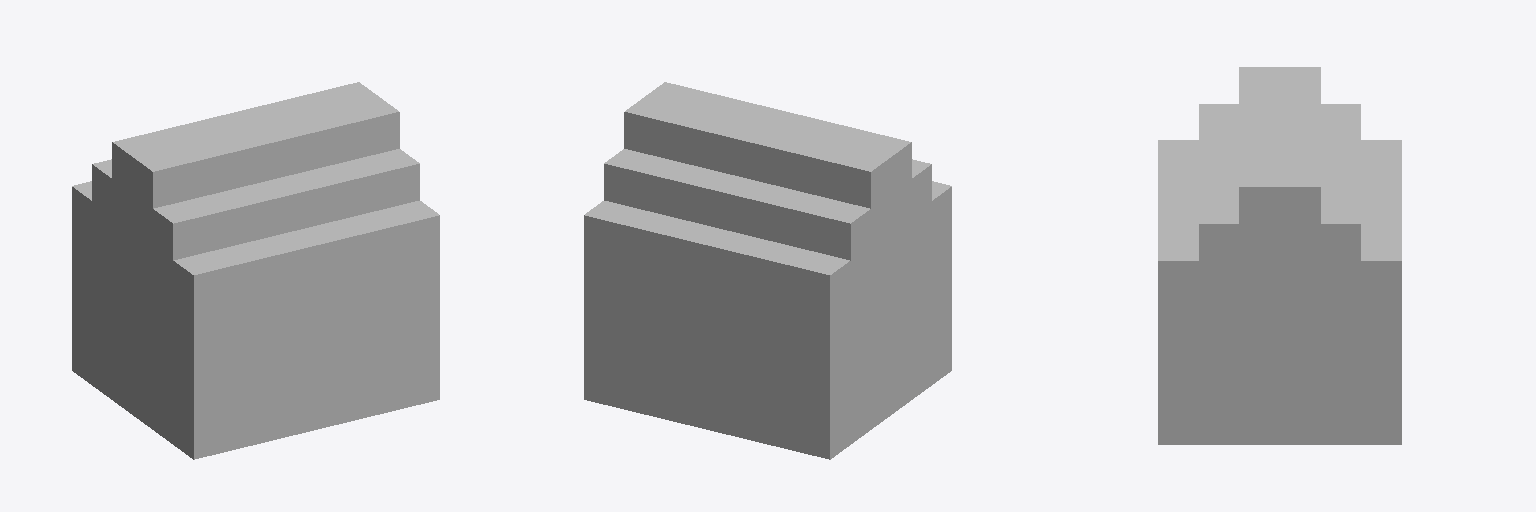
Rendered from Chest.obj.
3 renders of one model, left to right at view 1: azimuth 30°, elevation 25°; view 2: azimuth 150°, elevation 25°; view 3: azimuth 270°, elevation 25°, orthographic.
Parts seen in each view (by area): view 1: object 1; view 2: object 1; view 3: object 1.
Part boxes in pixels (x1,y1,x2,y2): object 1: (72,82,439,459); object 1: (584,82,951,459); object 1: (1158,67,1401,444).
Bounding box in the file's own units: 0.7 × 0.7 × 0.6.